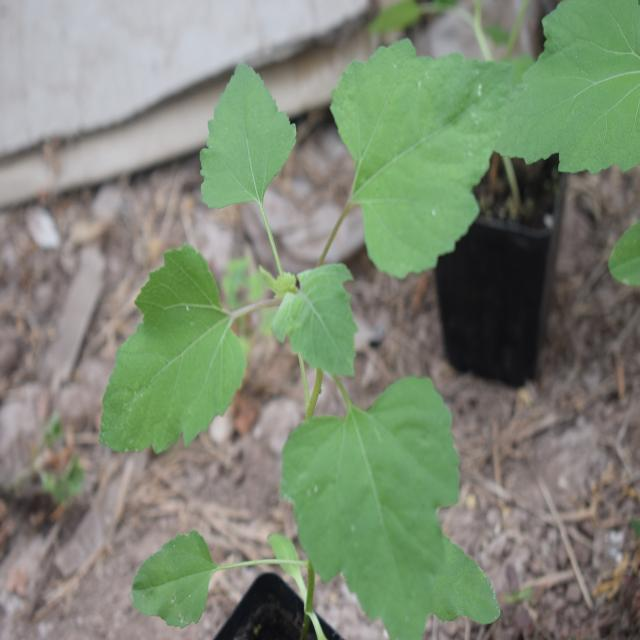cocklebur: (106, 36, 505, 619)
